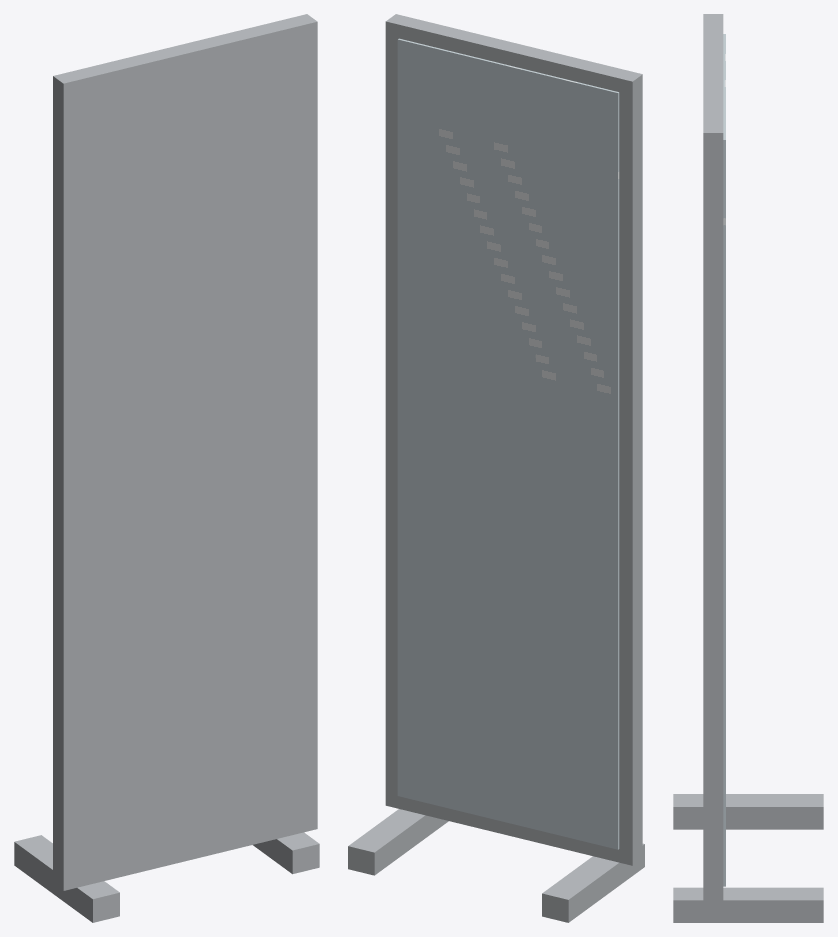
Rendered from f_bigmirror.glb.
3 views of the same model, side by side, from view 1: azimuth 30°, elevation 25°; view 2: azimuth 150°, elevation 25°; view 3: azimuth 270°, elevation 25° (orthographic). The views are drawn at different scales.
Visible parts, largest first — view 1: block_frame, block_foot-1, block_foot1; view 2: block_glass, block_frame, block_foot-1, block_foot1; view 3: block_frame, block_foot1, block_foot-1, block_glass.
Part boxes in pixels (x1,y1,x2,y2): block_frame: [53, 14, 317, 890]; block_foot-1: [14, 835, 119, 922]; block_foot1: [253, 832, 319, 874]; block_glass: [397, 38, 619, 849]; block_frame: [385, 14, 642, 865]; block_foot-1: [542, 843, 644, 922]; block_foot1: [348, 809, 448, 875]; block_frame: [703, 14, 723, 906]; block_foot1: [673, 887, 823, 922]; block_foot-1: [673, 794, 823, 829]; block_glass: [723, 34, 725, 886].
Bounding box in the file's own units: 0.56 × 1.75 × 0.3.
2 materials, 2 textured.
